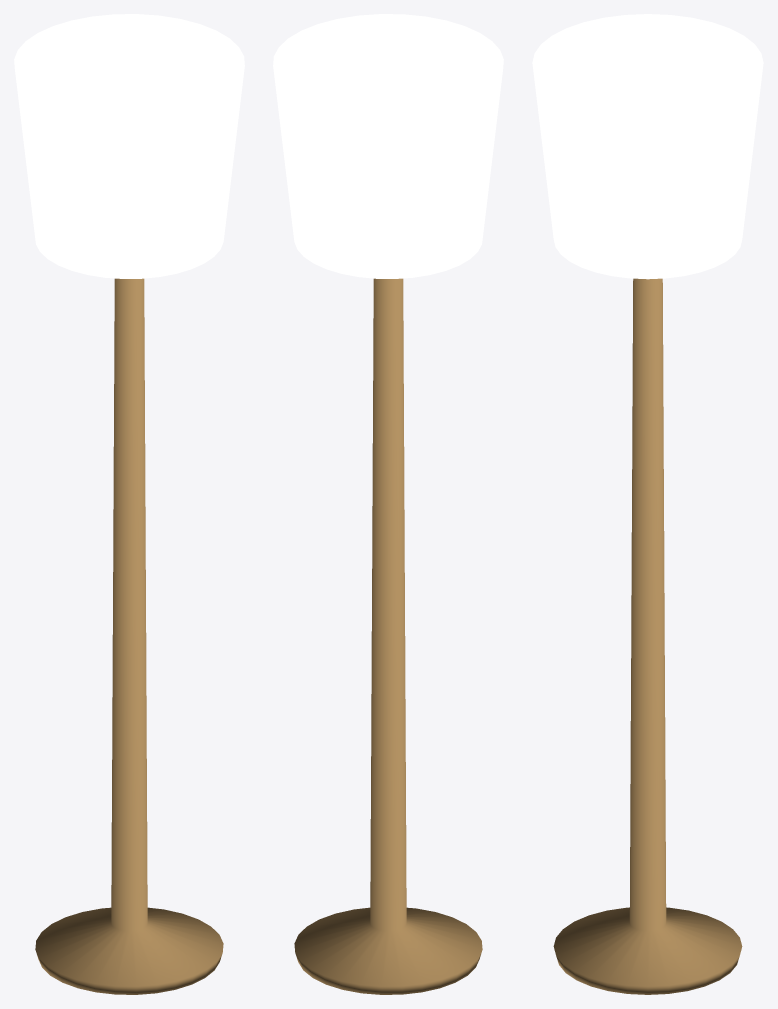
Rendered from floor-lamp.glb.
3 renders of one model, left to right at view 1: azimuth 30°, elevation 25°; view 2: azimuth 150°, elevation 25°; view 3: azimuth 270°, elevation 25°, orthographic.
Parts seen in each view (by area): view 1: floorlamp_shade, floorlamp_base; view 2: floorlamp_shade, floorlamp_base; view 3: floorlamp_shade, floorlamp_base.
Boxes of the visible parts, x1,y1,x2,y2 form: floorlamp_shade: (14, 14, 244, 278); floorlamp_base: (35, 278, 223, 994); floorlamp_shade: (273, 14, 503, 278); floorlamp_base: (294, 278, 482, 994); floorlamp_shade: (532, 14, 763, 279); floorlamp_base: (553, 278, 742, 994).
Size of the model in its own units: 0.38 by 1.62 by 0.38.
